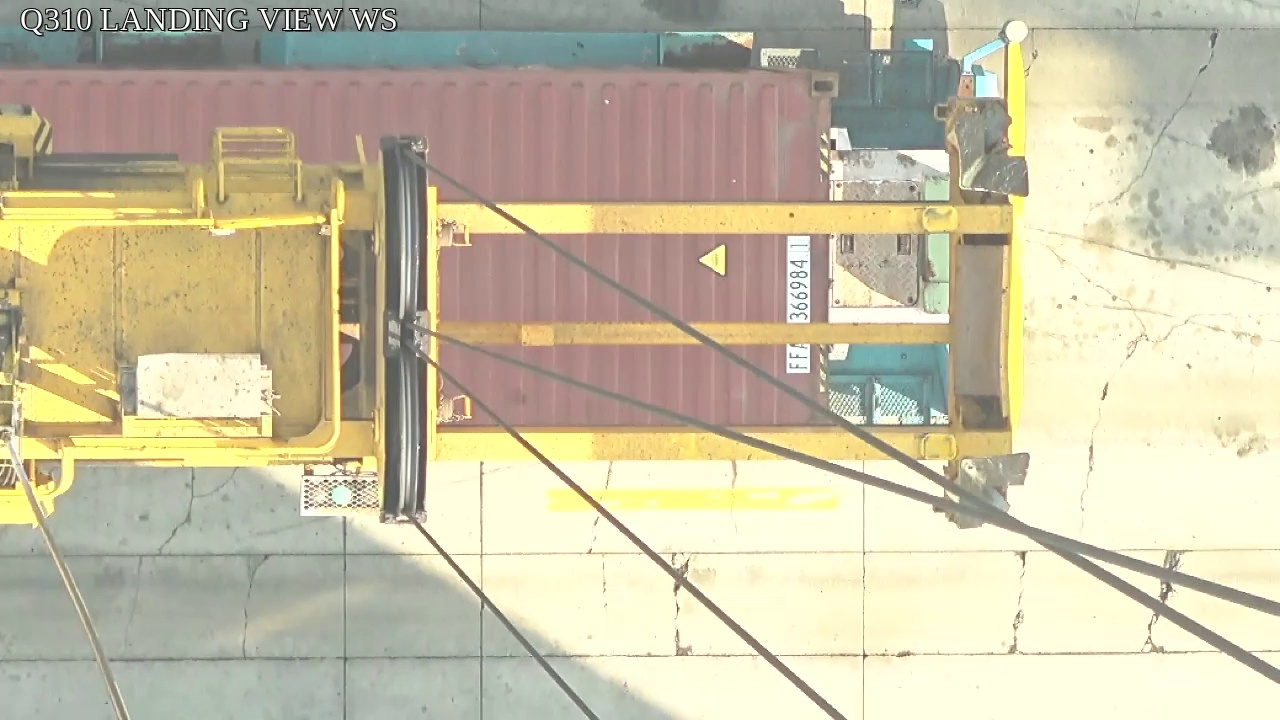right: (375, 135, 436, 525)
